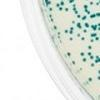Blue_green: (59, 0, 65, 6), (69, 25, 74, 31), (82, 57, 87, 63), (71, 58, 75, 65), (55, 3, 60, 8), (64, 7, 69, 12), (72, 7, 77, 12), (76, 14, 81, 19), (83, 4, 88, 9), (50, 18, 55, 23), (56, 35, 61, 40), (63, 29, 68, 34), (76, 33, 81, 38), (94, 36, 99, 41), (95, 54, 100, 59), (69, 0, 75, 4), (86, 9, 90, 15), (53, 24, 57, 30), (88, 44, 92, 50), (67, 51, 71, 57), (80, 51, 84, 57), (89, 54, 93, 60), (87, 51, 91, 57), (93, 60, 99, 64), (88, 75, 92, 81), (45, 2, 49, 7), (49, 7, 53, 12), (58, 7, 63, 11), (73, 10, 78, 14), (69, 30, 73, 35), (71, 19, 75, 24), (83, 7, 87, 12), (95, 2, 99, 7), (49, 14, 53, 19), (57, 30, 61, 35), (77, 21, 81, 26), (96, 12, 100, 17), (84, 22, 88, 27), (89, 32, 93, 37), (92, 33, 97, 37), (93, 26, 97, 31), (81, 36, 85, 41), (90, 38, 94, 43), (90, 64, 95, 68), (85, 80, 90, 84), (96, 75, 100, 80), (47, 1, 51, 5), (72, 4, 76, 8), (89, 1, 93, 5), (69, 37, 73, 41), (76, 23, 80, 27), (78, 25, 82, 29), (83, 29, 87, 33), (96, 57, 100, 61), (79, 67, 83, 71), (83, 15, 86, 19), (97, 0, 100, 4), (81, 17, 84, 21), (90, 15, 93, 19), (91, 24, 94, 28), (94, 24, 97, 28), (98, 69, 100, 74), (92, 14, 95, 17), (86, 25, 89, 28), (45, 0, 49, 2), (98, 26, 100, 30), (98, 22, 100, 26)
